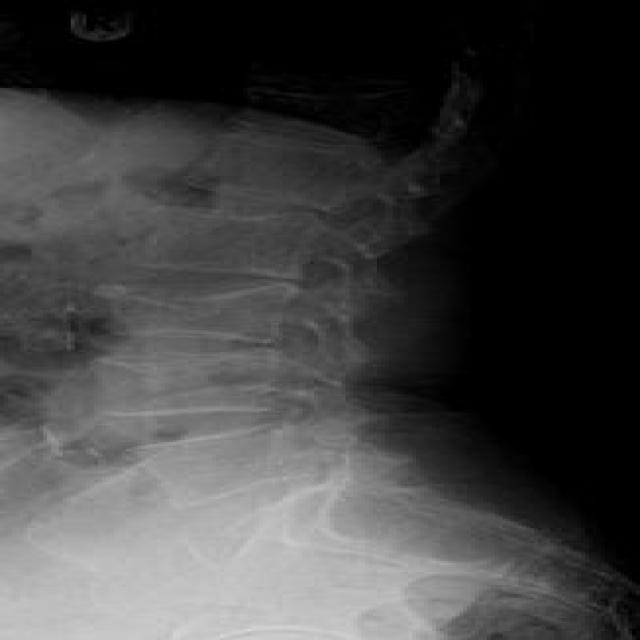fracture: (0, 253, 428, 443)
